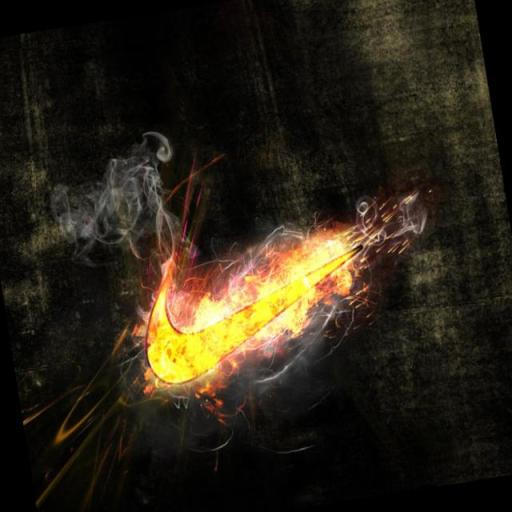Nike: (129, 242, 382, 392)
